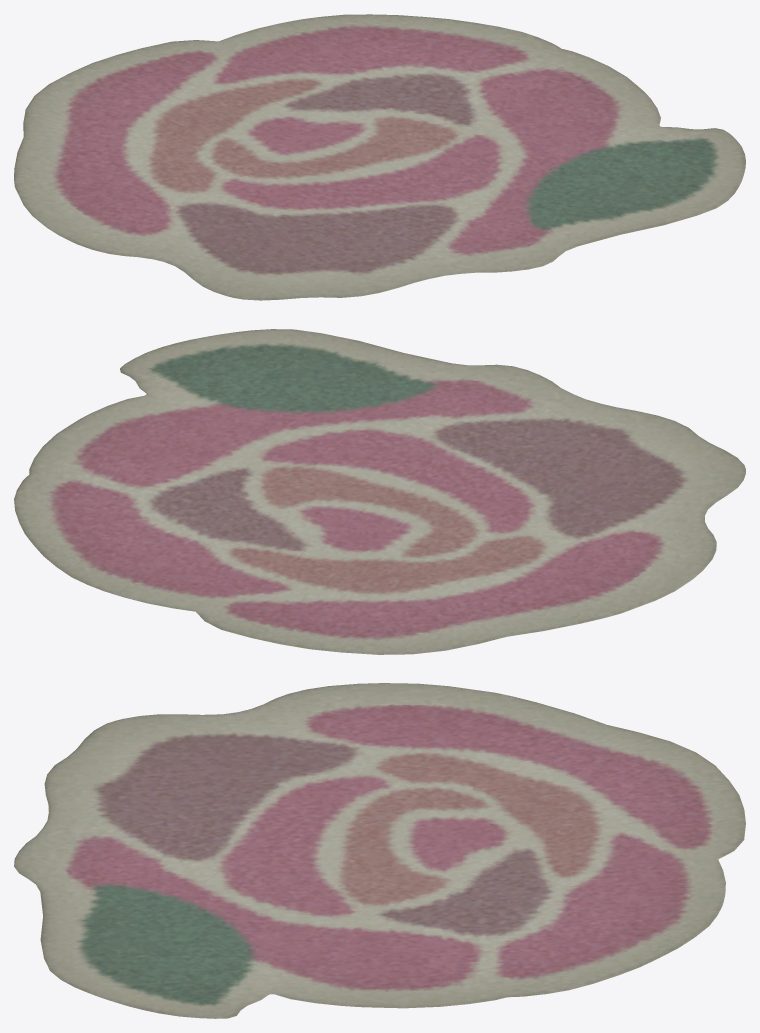
The model's file is RugOtherRoseM00.glb.
The picture shows the model from 3 angles, top to bottom: view 1: azimuth 30°, elevation 25°; view 2: azimuth 150°, elevation 25°; view 3: azimuth 270°, elevation 25°; orthographic projection. The views are drawn at different scales.
Parts seen in each view (by area): view 1: Main__mMain; view 2: Main__mMain; view 3: Main__mMain.
Boxes of the visible parts, x1=… form: Main__mMain: x1=14, y1=14, x2=745, y2=300; Main__mMain: x1=14, y1=329, x2=745, y2=654; Main__mMain: x1=14, y1=683, x2=745, y2=1018.
Size of the model in its own units: 29.99 by 0.03 by 27.63.
1 material, 1 textured.
